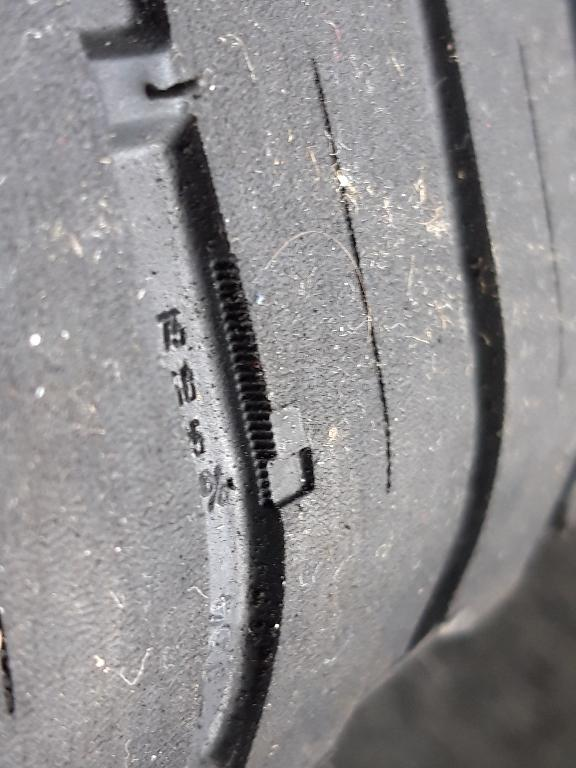temoin:25: (236, 393, 327, 520)
